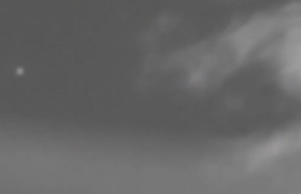Target: (18, 69, 23, 74)
